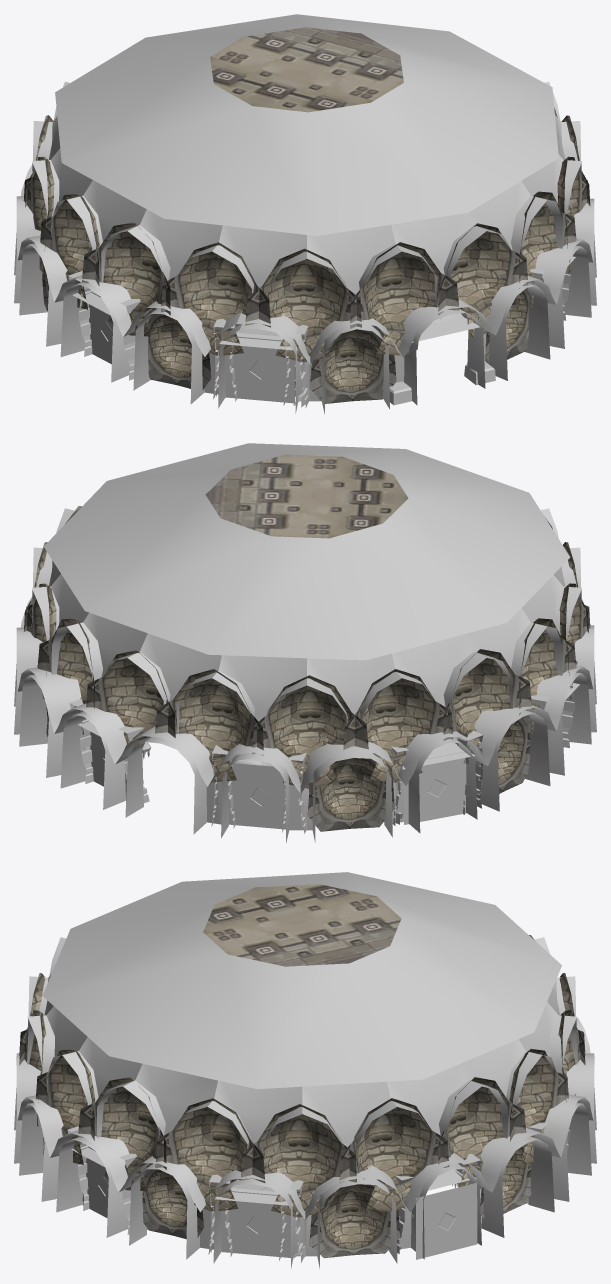
File: DN_dating03_broken.FBX
3 renders of one model, top to bottom at view 1: azimuth 30°, elevation 25°; view 2: azimuth 150°, elevation 25°; view 3: azimuth 270°, elevation 25°, orthographic.
Visible parts, largest first — view 1: DN_tushuguan_broken, DN_dating02__broken, DN_dating03_brokenhide; view 2: DN_tushuguan_broken, DN_dating02__broken, DN_dating03_brokenhide; view 3: DN_tushuguan_broken, DN_dating02__broken, DN_dating03_brokenhide.
Boxes of the visible parts, box(x1,y1,x2,y2) form: DN_tushuguan_broken: box(14, 14, 596, 408); DN_dating02__broken: box(23, 27, 590, 389); DN_dating03_brokenhide: box(21, 165, 593, 414); DN_tushuguan_broken: box(14, 443, 596, 833); DN_dating02__broken: box(23, 454, 590, 794); DN_dating03_brokenhide: box(17, 598, 582, 843); DN_tushuguan_broken: box(27, 872, 577, 1268); DN_dating02__broken: box(19, 884, 585, 1258); DN_dating03_brokenhide: box(14, 1017, 596, 1237).
Size of the model in its own units: 548848 by 232637 by 550118.
